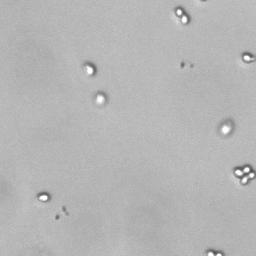budding: (174, 5, 191, 27), (83, 61, 100, 80), (238, 50, 256, 65)
cluster: (232, 163, 256, 187)
individual: (216, 114, 239, 139), (34, 190, 52, 205), (94, 92, 107, 107)
